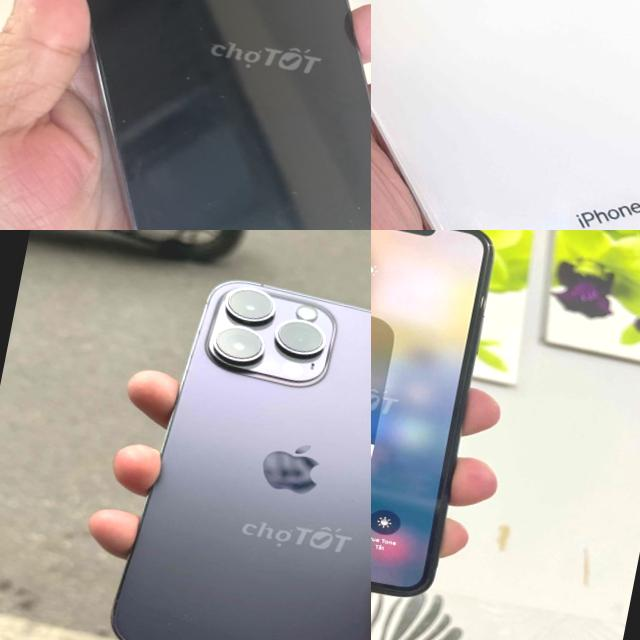gen_11: (371, 230, 518, 625)
gen_12_13: (0, 0, 371, 230)
gen_14: (102, 264, 371, 640)
gen_x_xs: (371, 0, 640, 230)
